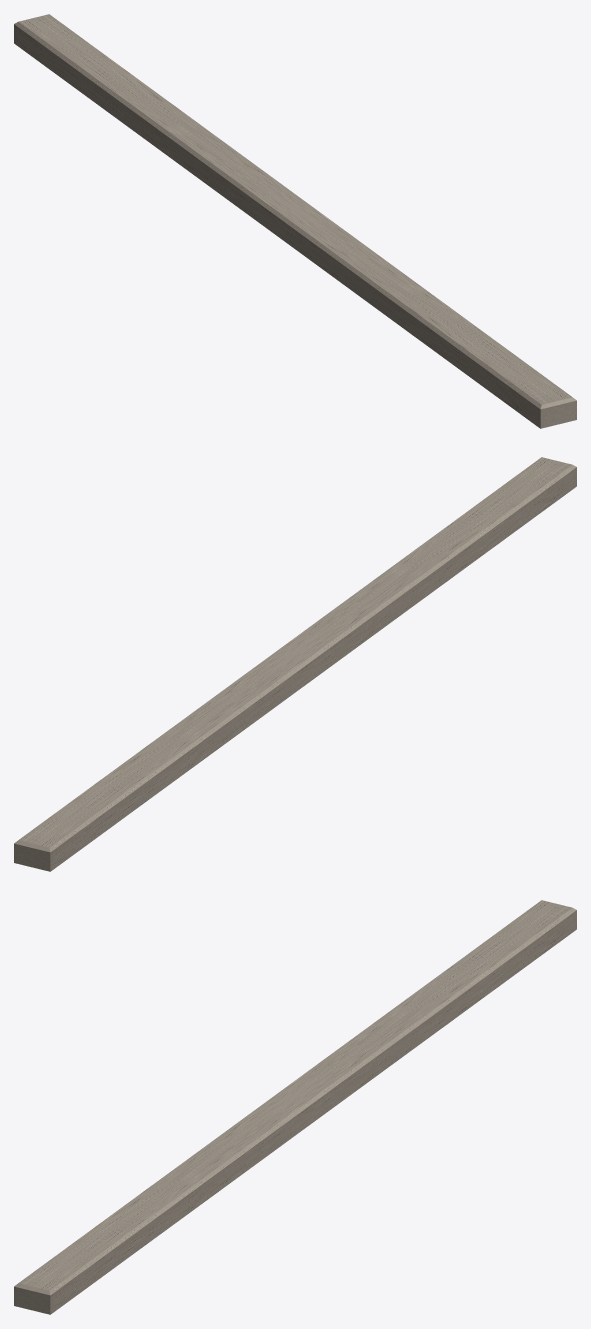
File: showcase_curb.glb
The picture shows the model from 3 angles, top to bottom: view 1: azimuth 30°, elevation 25°; view 2: azimuth 150°, elevation 25°; view 3: azimuth 330°, elevation 25°; orthographic projection.
Parts seen in each view (by area): view 1: outdoor_showcase_curb; view 2: outdoor_showcase_curb; view 3: outdoor_showcase_curb.
Part boxes in pixels (x1,y1,x2,y2): outdoor_showcase_curb: [14, 14, 576, 428]; outdoor_showcase_curb: [14, 457, 576, 871]; outdoor_showcase_curb: [14, 900, 576, 1314].
Size of the model in its own units: 0.24 by 0.14 by 6.
1 material, 1 textured.
